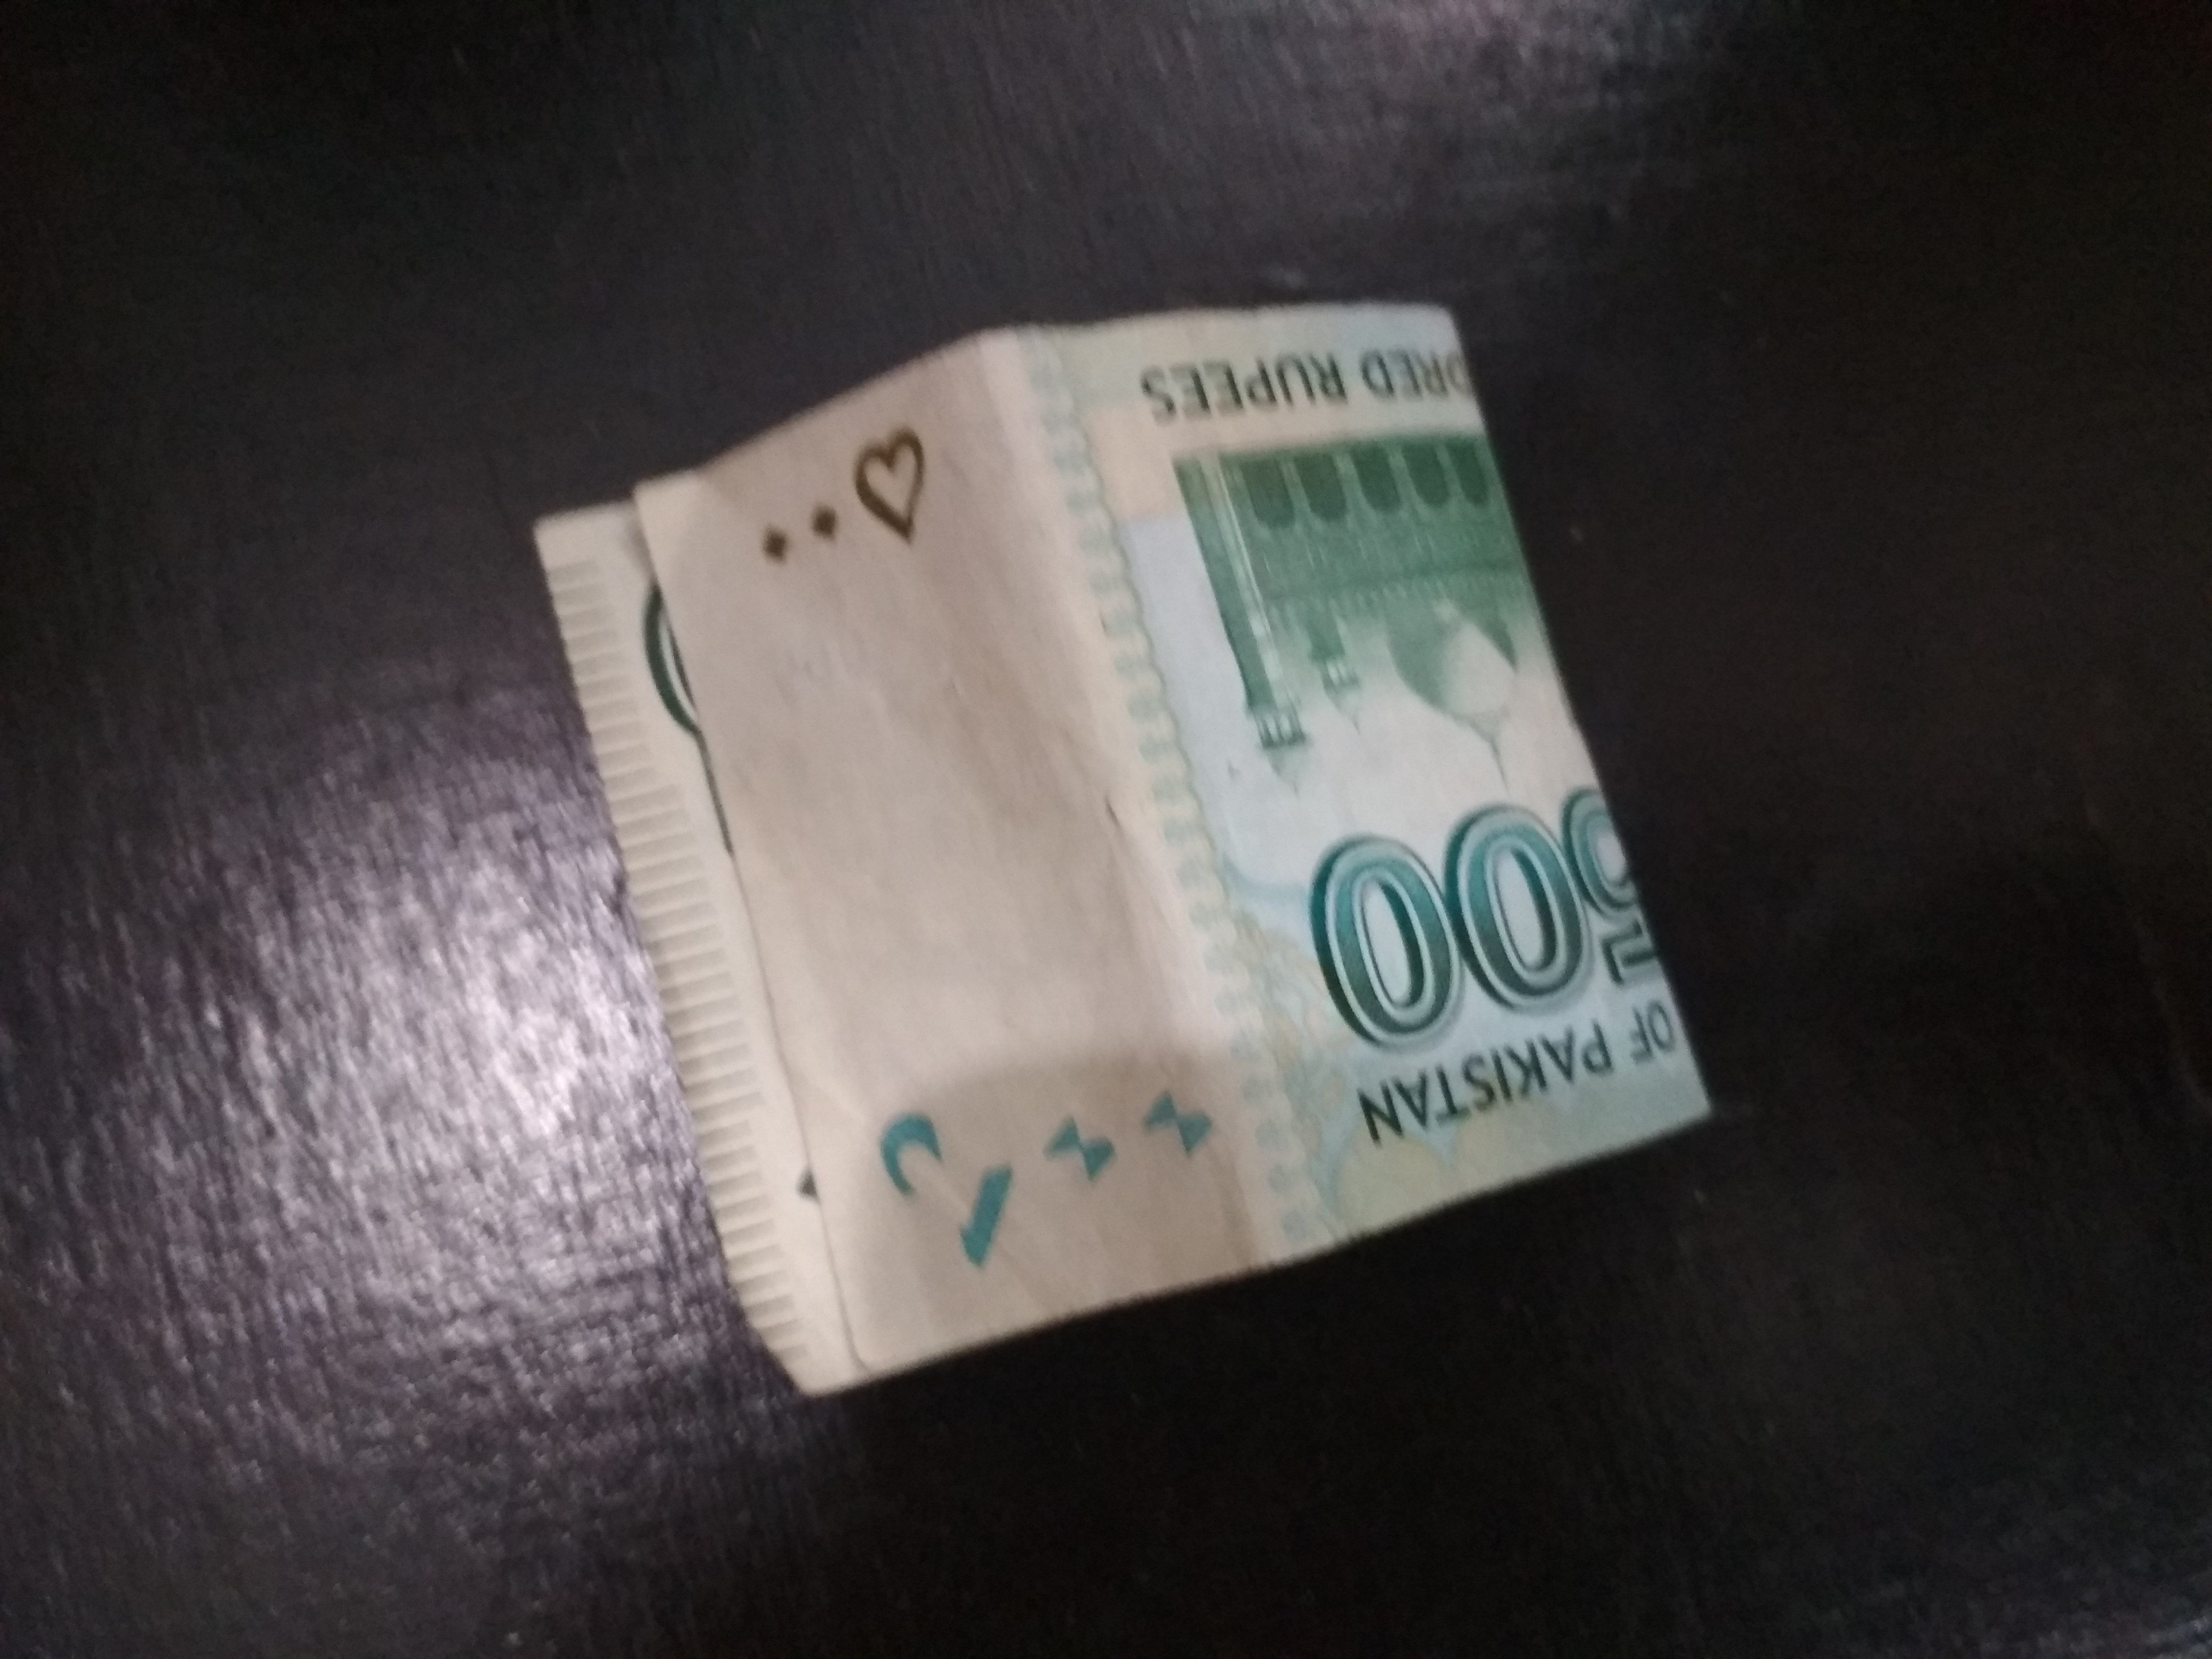500 rupee: (496, 254, 1780, 1469)
